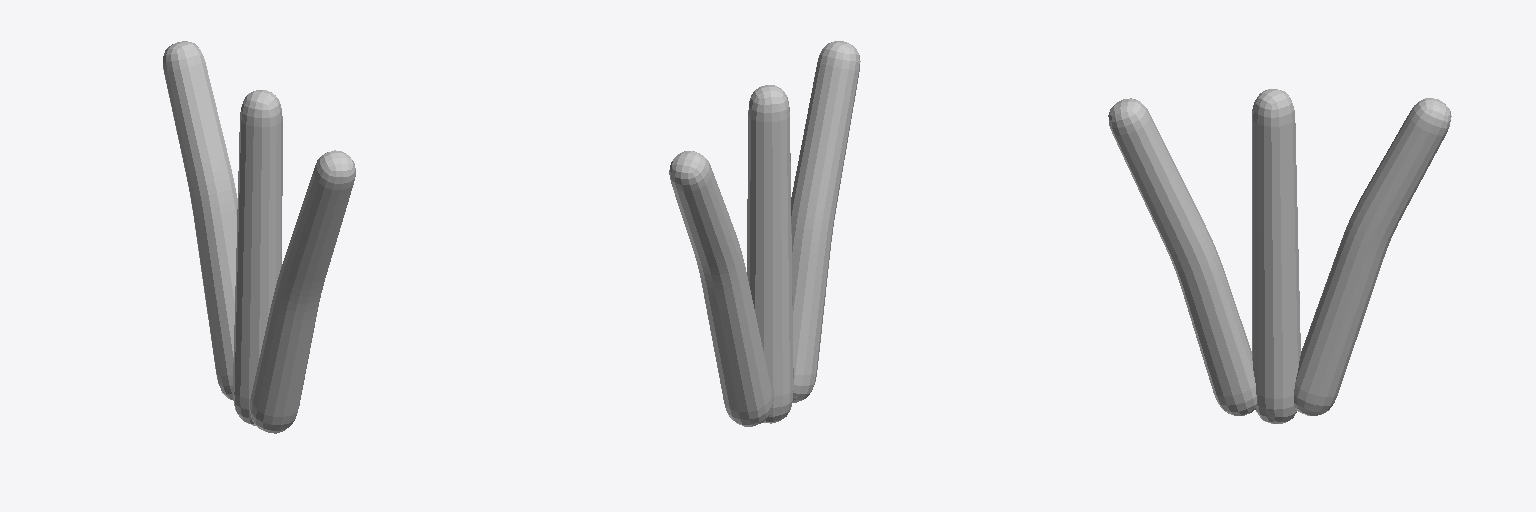
The model's file is hypha.obj.
3 views of the same model, side by side, from view 1: azimuth 30°, elevation 25°; view 2: azimuth 150°, elevation 25°; view 3: azimuth 270°, elevation 25° (orthographic).
Parts seen in each view (by area): view 1: Plane.002, Plane.001, Plane; view 2: Plane.002, Plane.001, Plane; view 3: Plane.001, Plane.002, Plane.
Boxes of the visible parts, x1=… form: Plane.002: x1=250, y1=150, x2=355, y2=433; Plane.001: x1=163, y1=41, x2=237, y2=399; Plane: x1=233, y1=90, x2=282, y2=425; Plane.002: x1=791, y1=41, x2=860, y2=402; Plane.001: x1=669, y1=151, x2=772, y2=426; Plane: x1=747, y1=85, x2=793, y2=423; Plane.001: x1=1294, y1=98, x2=1451, y2=415; Plane.002: x1=1108, y1=98, x2=1256, y2=415; Plane: x1=1252, y1=89, x2=1300, y2=423.
Bounding box in the file's own units: 0.3667 × 2.48 × 2.32.